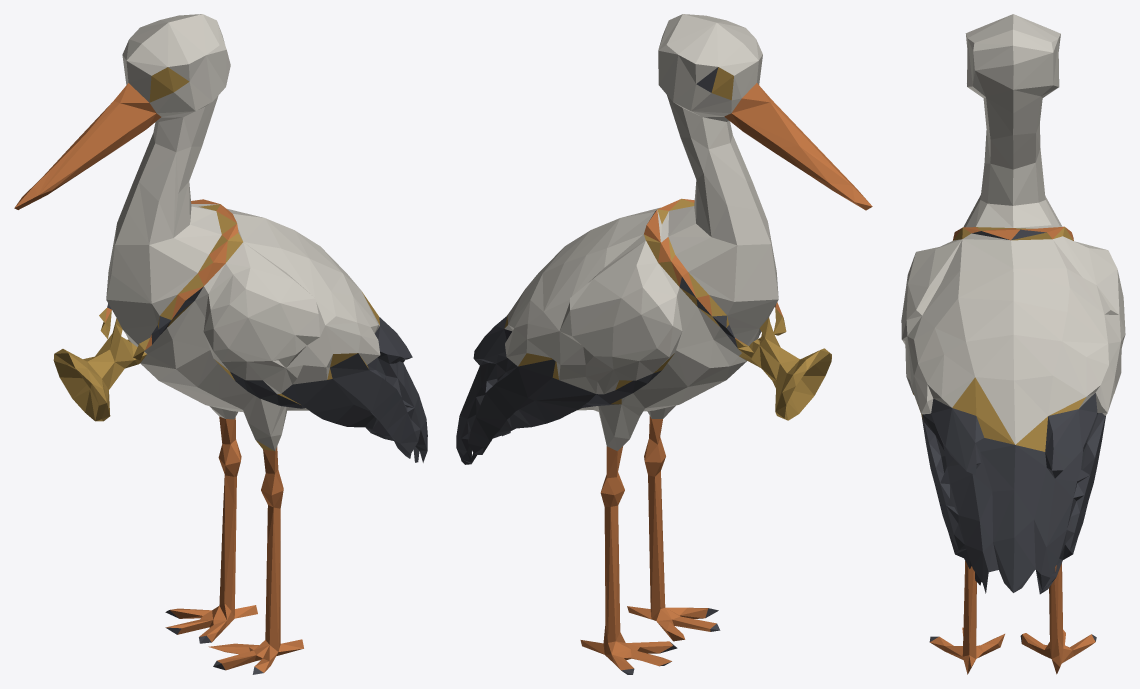
3 views of the same model, side by side, from view 1: azimuth 30°, elevation 25°; view 2: azimuth 150°, elevation 25°; view 3: azimuth 270°, elevation 25° (orthographic). The views are drawn at different scales.
Parts seen in each view (by area): view 1: lion-1500; view 2: lion-1500; view 3: lion-1500.
Part boxes in pixels (x1=…): lion-1500: x1=14, y1=14, x2=427, y2=674; lion-1500: x1=456, y1=14, x2=872, y2=674; lion-1500: x1=901, y1=14, x2=1125, y2=674.
Size of the model in its own units: 0.6733 by 0.9983 by 0.3322.
